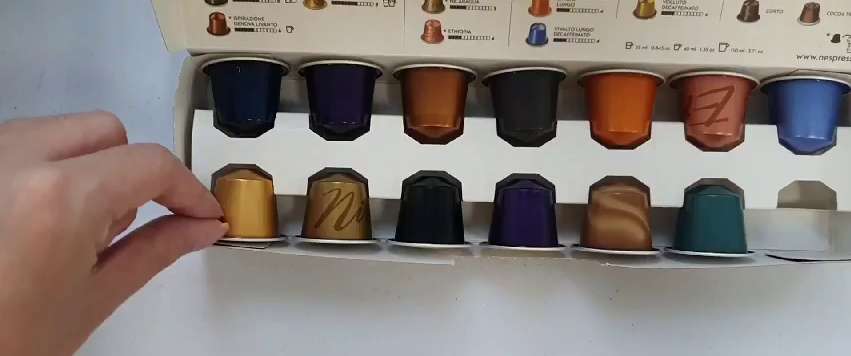capsule_8: (203, 166, 285, 247)
